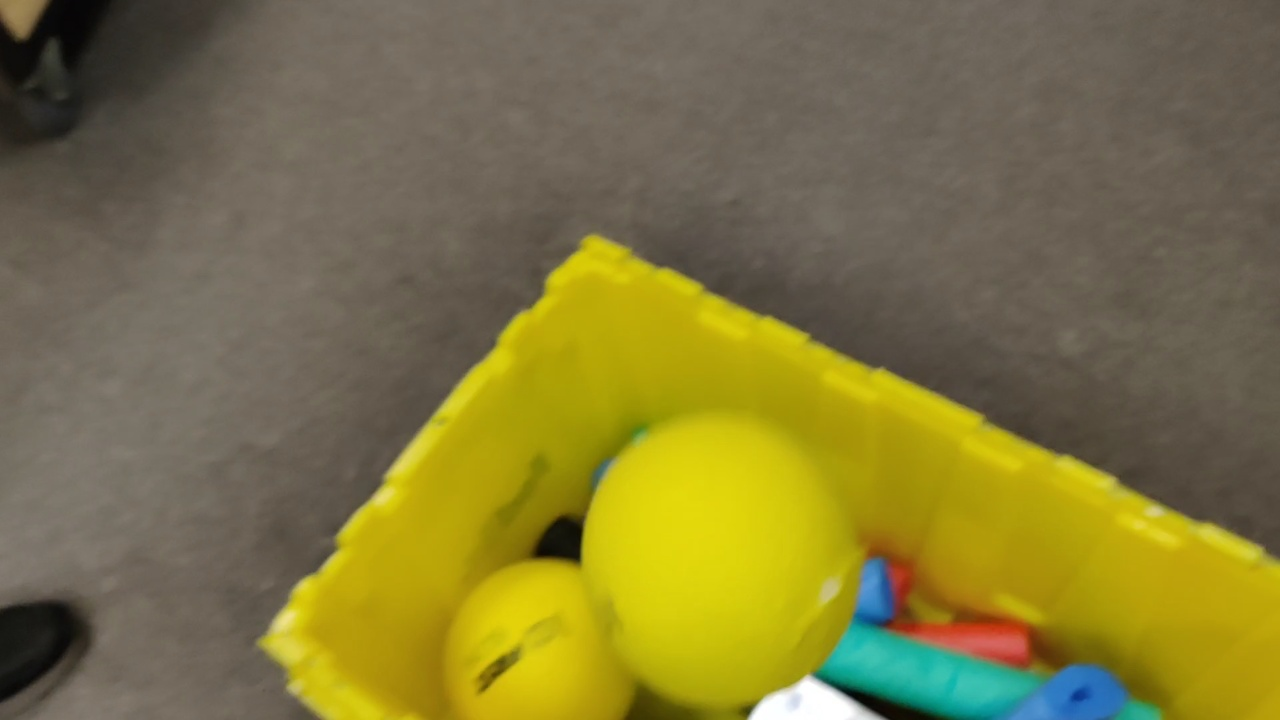Ball: (574, 407, 864, 707), (441, 558, 638, 720)
